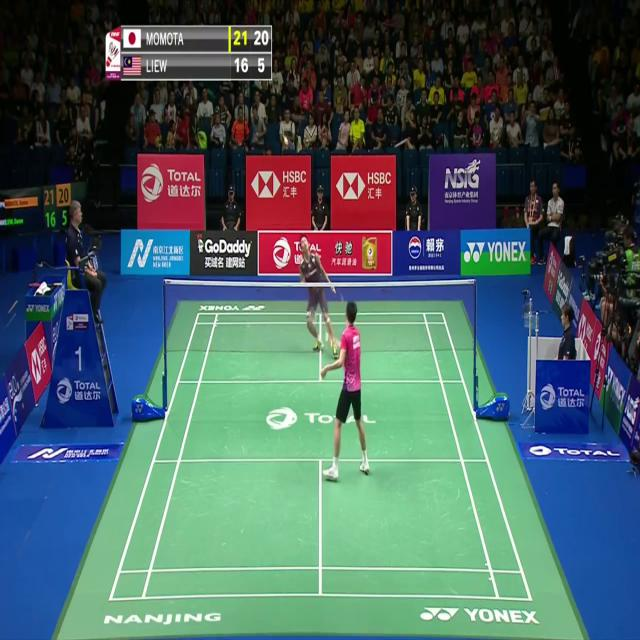Shuttlecock: (283, 136, 289, 147)
